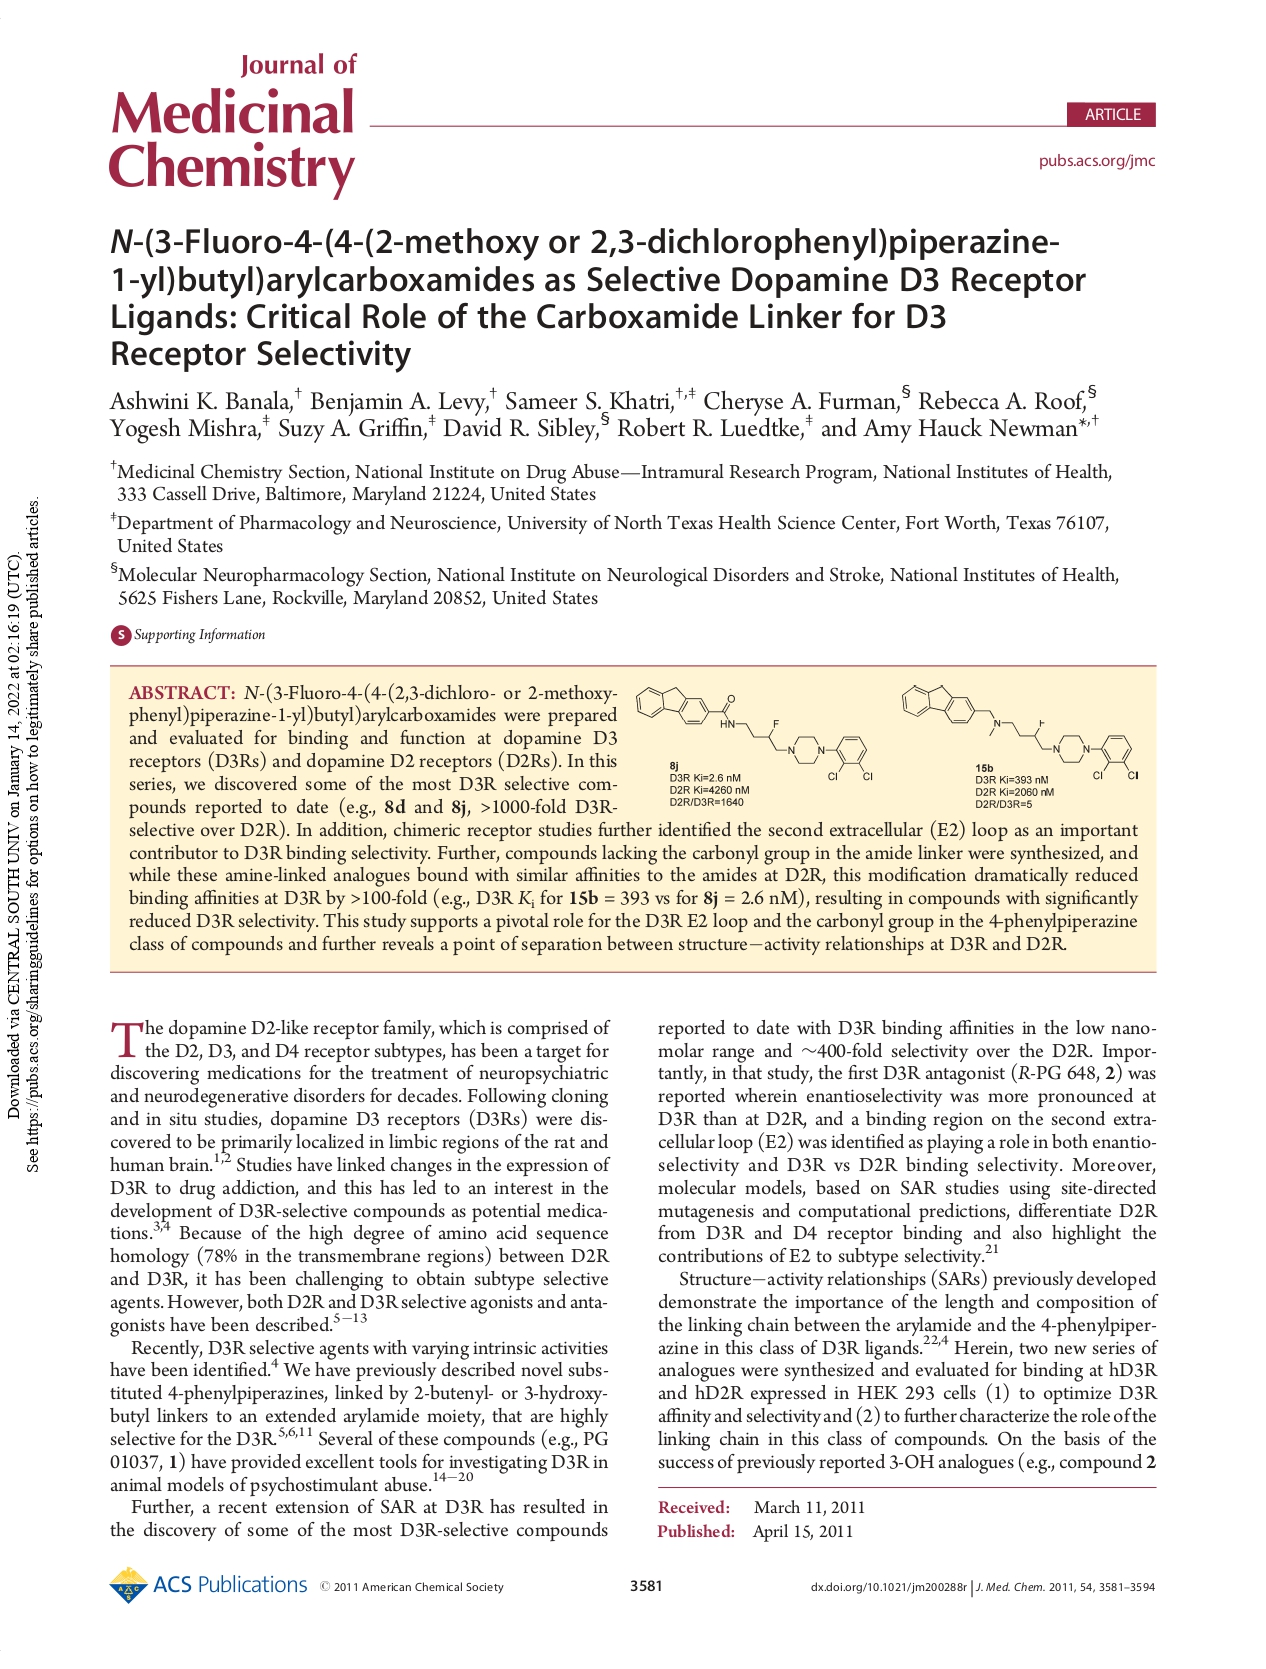exist_molecular: (630, 684, 875, 785), (899, 682, 1140, 782)
